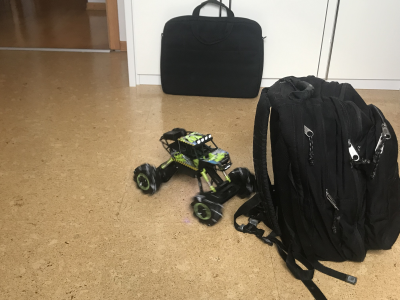remote control car: (130, 123, 258, 227)
